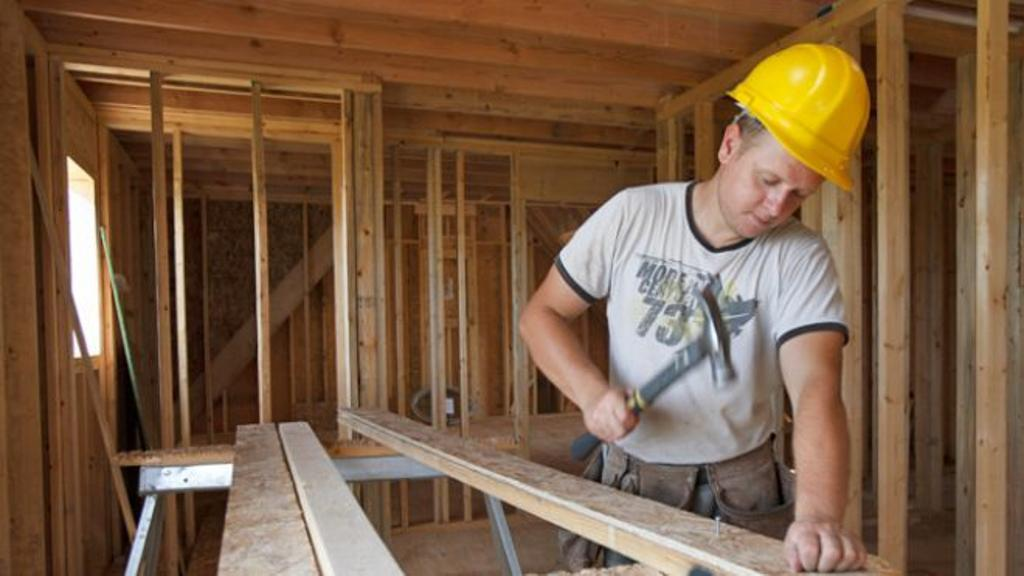face: (737, 137, 817, 235)
